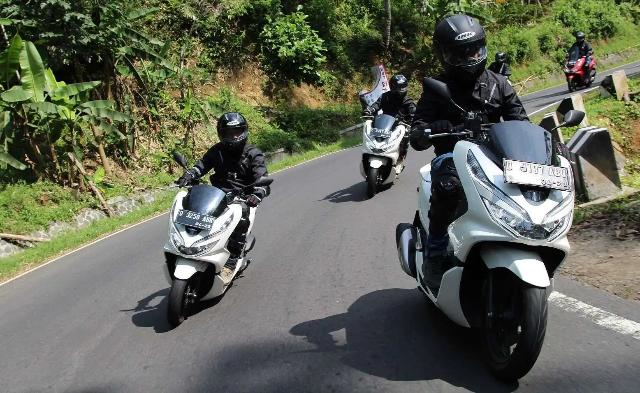helm: (433, 15, 490, 74), (217, 113, 251, 147), (391, 74, 410, 96), (495, 53, 508, 64), (576, 33, 587, 44)
motor: (400, 124, 610, 386), (158, 182, 263, 324), (353, 116, 413, 191), (563, 59, 599, 94)
